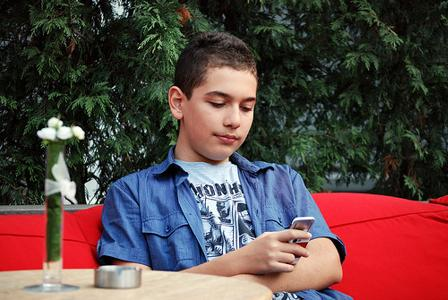person: (99, 31, 354, 300)
